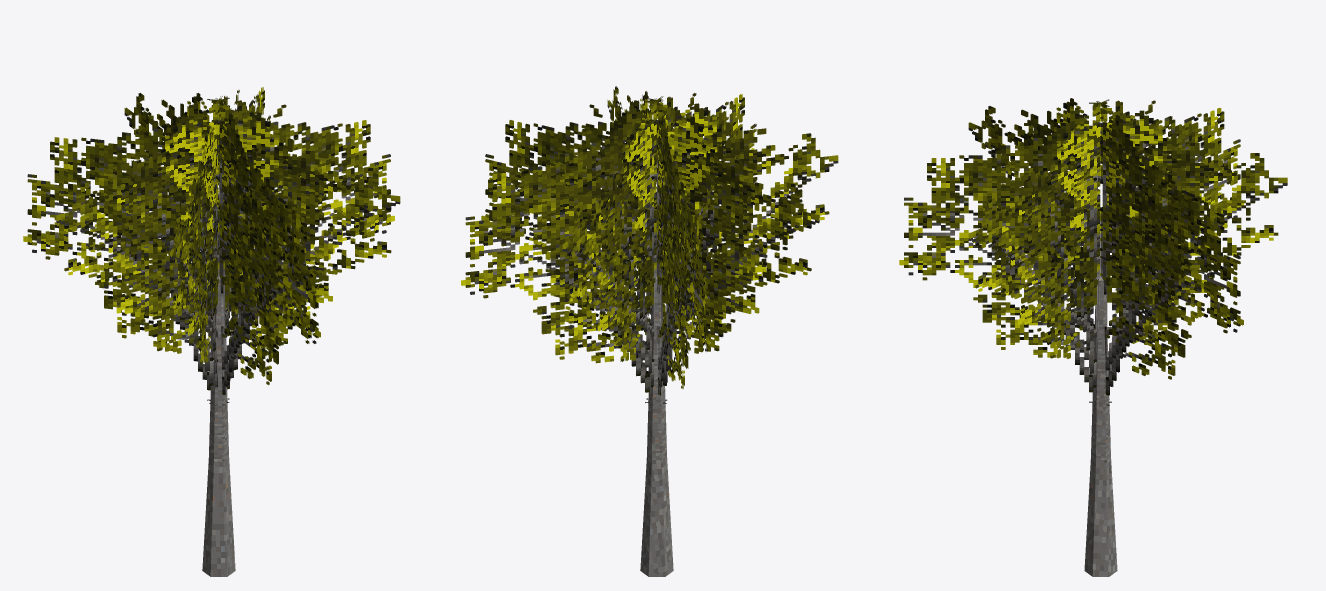
Rendered from tree35.glb.
The picture shows the model from 3 angles, left to right: view 1: azimuth 30°, elevation 25°; view 2: azimuth 150°, elevation 25°; view 3: azimuth 270°, elevation 25°; orthographic projection.
Parts seen in each view (by area): view 1: tree35; view 2: tree35; view 3: tree35.
Boxes of the visible parts, x1,y1,x2,y2 form: tree35: (23, 87, 400, 576); tree35: (461, 86, 838, 576); tree35: (899, 98, 1287, 576).
Bounding box in the file's own units: 6.53 × 8 × 6.53.
Materials: 1 (1 with a texture image).
